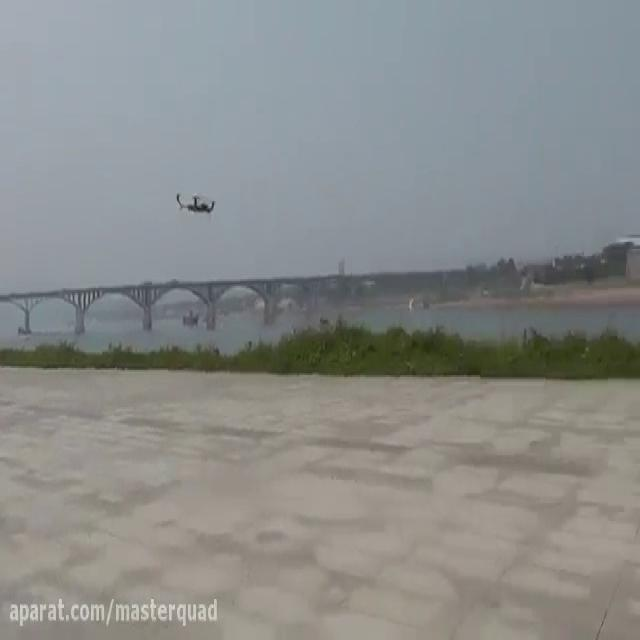drone: (174, 186, 218, 218)
